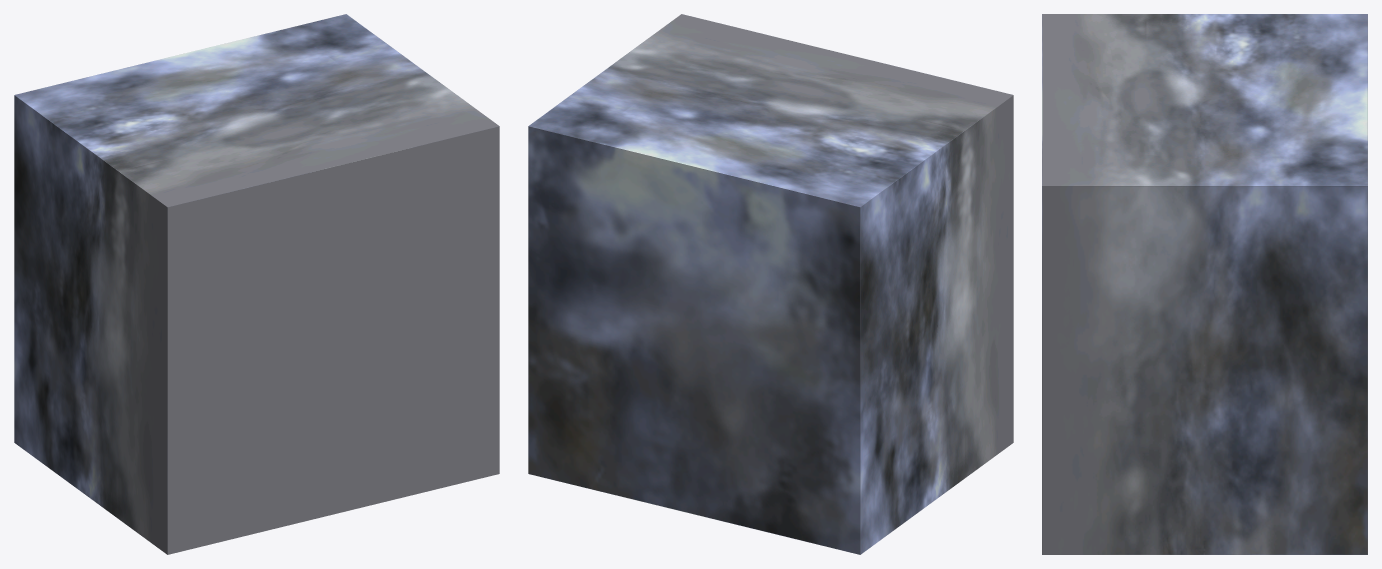
The model's file is sky.dae.
The picture shows the model from 3 angles, left to right: view 1: azimuth 30°, elevation 25°; view 2: azimuth 150°, elevation 25°; view 3: azimuth 270°, elevation 25°; orthographic projection. The views are drawn at different scales.
Parts seen in each view (by area): view 1: Cube; view 2: Cube; view 3: Cube.
Part boxes in pixels (x1,y1,x2,y2): Cube: [14, 14, 499, 554]; Cube: [528, 14, 1013, 554]; Cube: [1042, 14, 1367, 554].
Bounding box in the file's own units: 5 × 4 × 5.
Materials: 6 (6 with a texture image).
